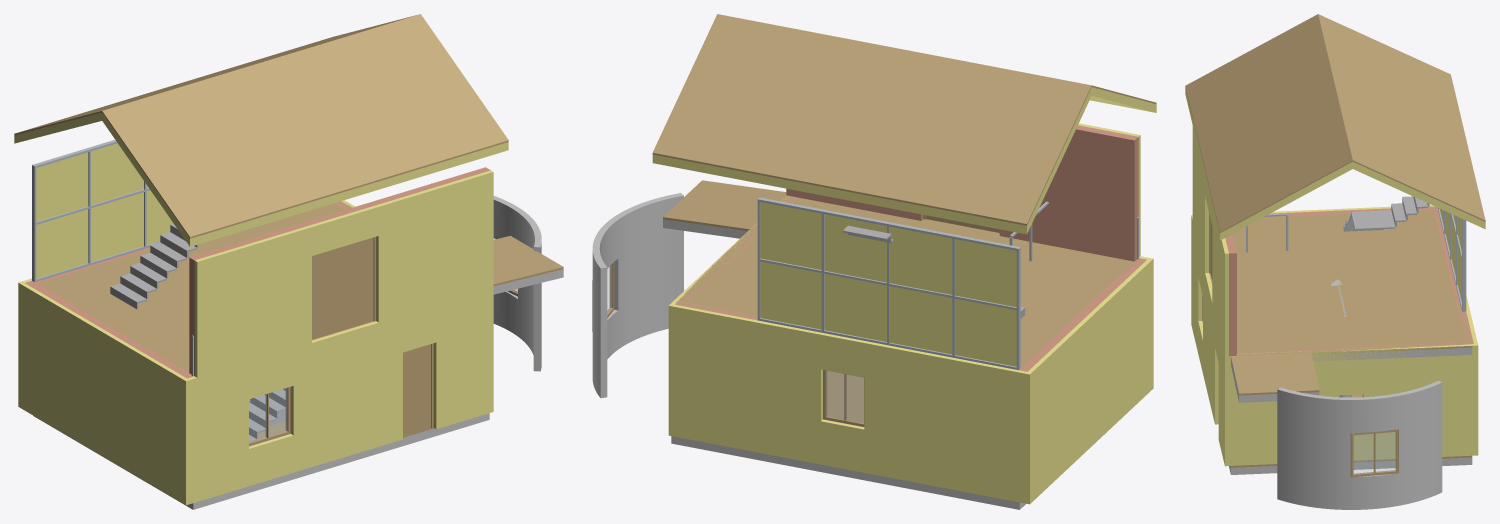
Rendered from 🏠️house.glb.
3 views of the same model, side by side, from view 1: azimuth 30°, elevation 25°; view 2: azimuth 150°, elevation 25°; view 3: azimuth 270°, elevation 25° (orthographic). The views are drawn at different scales.
Visible parts, largest first — view 1: Roof, South, First South, West, Facade, First slab, Double door, Curved, Stair 2, Balcony, Ground slab, Door 1 (+2 smaller); view 2: Roof, North, Facade, West, First slab, First South, Curved, Ground slab, Balcony, Window 2; view 3: Roof, First slab, Curved, East, First South, South, Balcony, Curved window, Facade, Stair 2, Ground slab, North (+1 smaller).
Boxes of the visible parts, x1,y1,x2,y2 form: Roof: (14, 14, 508, 246); South: (186, 288, 493, 505); First South: (189, 167, 493, 377); West: (18, 282, 188, 504); Facade: (32, 140, 173, 282); First slab: (38, 201, 353, 372); Double door: (312, 236, 375, 339); Curved: (431, 183, 541, 371); Stair 2: (110, 224, 198, 309); Balcony: (493, 235, 563, 294); Ground slab: (34, 413, 489, 509); Door 1: (403, 343, 433, 436); Roof: (652, 14, 1156, 234); North: (668, 302, 1029, 504); Facade: (757, 197, 1020, 370); West: (1023, 258, 1153, 503); First slab: (676, 195, 1133, 367); First South: (786, 123, 1140, 261); Curved: (592, 193, 683, 398); Ground slab: (671, 371, 1025, 509); Balcony: (663, 180, 786, 238); Window 2: (823, 370, 864, 426); Roof: (1185, 14, 1485, 240); First slab: (1232, 210, 1472, 361); Curved: (1277, 381, 1442, 509); East: (1225, 341, 1478, 466); First South: (1192, 126, 1236, 356); South: (1191, 215, 1224, 465); Balcony: (1231, 352, 1319, 402); Curved window: (1350, 429, 1398, 477); Facade: (1438, 208, 1466, 311); Stair 2: (1343, 196, 1429, 231); Ground slab: (1229, 394, 1472, 474); North: (1434, 208, 1477, 345).
Bounding box in the file's own units: 11.49 × 8.59 × 7.43.
